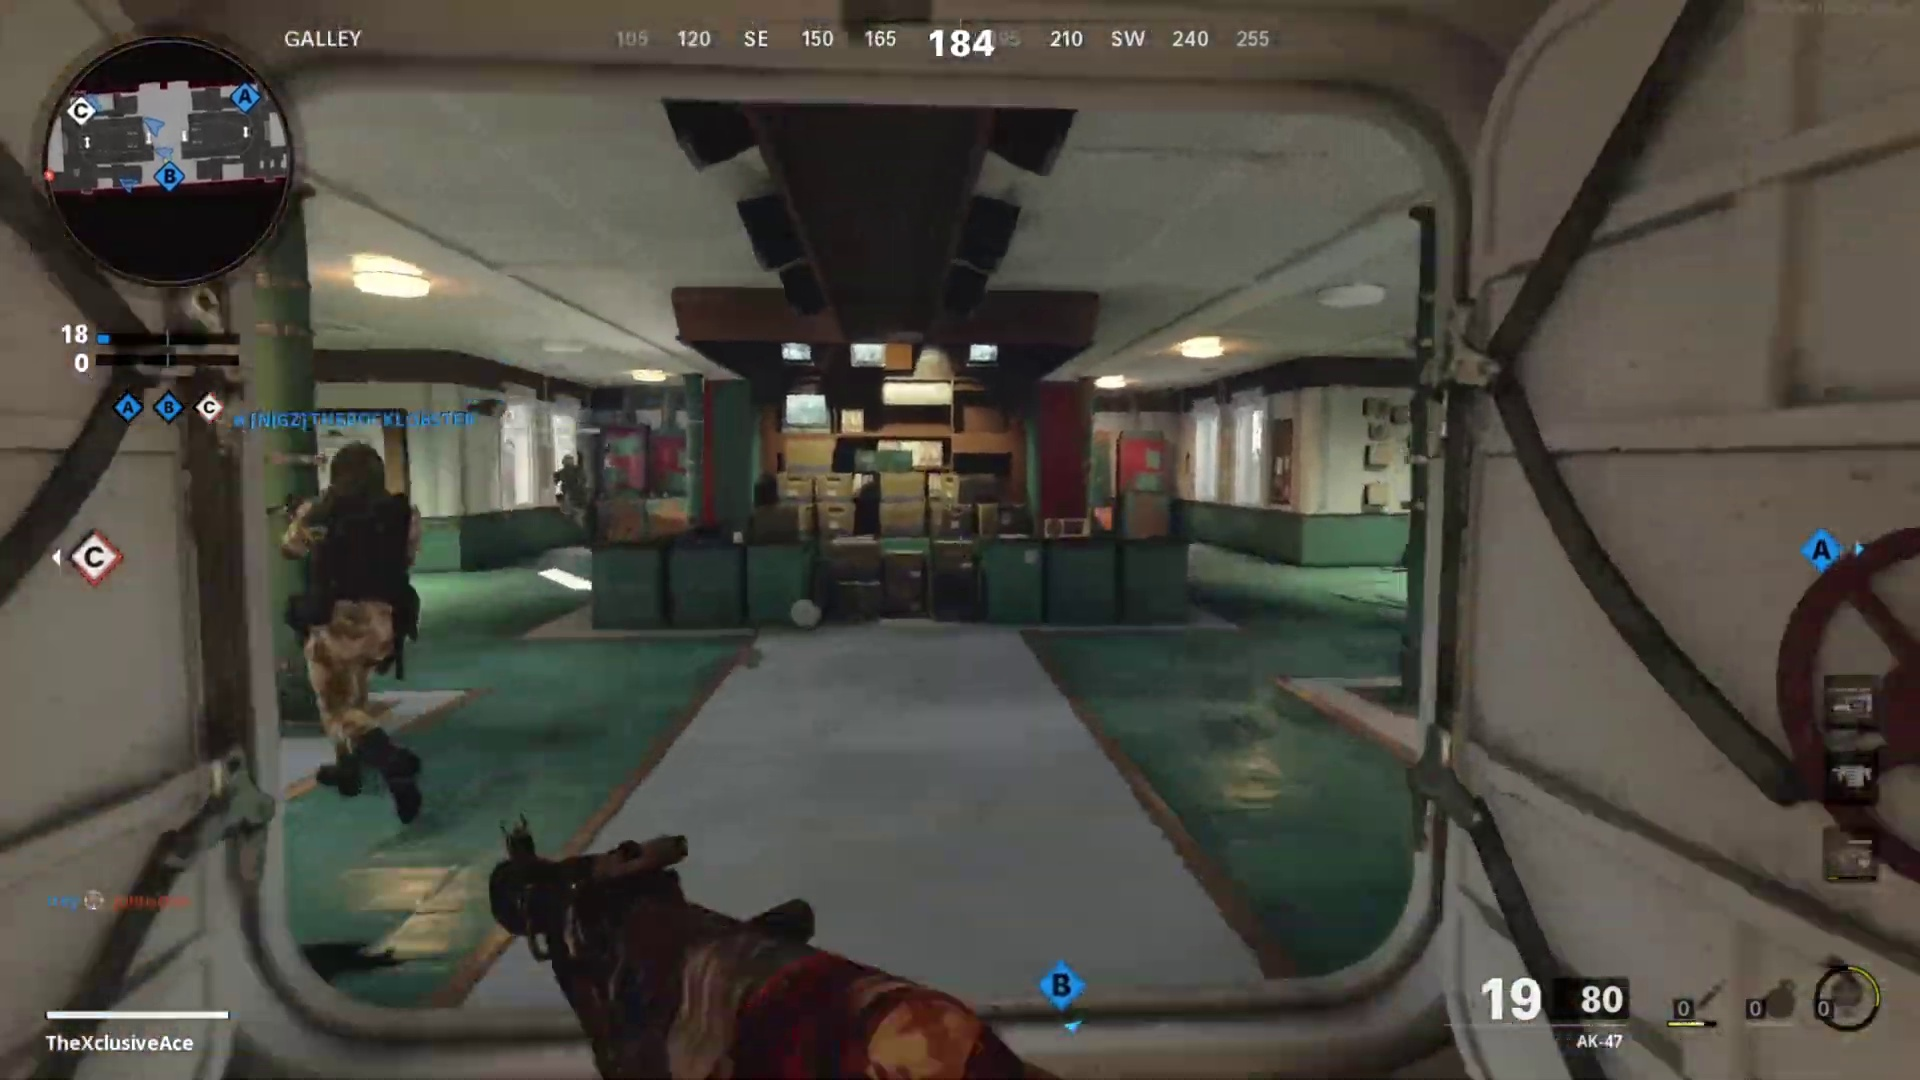head: (325, 444, 388, 506)
person: (277, 440, 431, 832)
